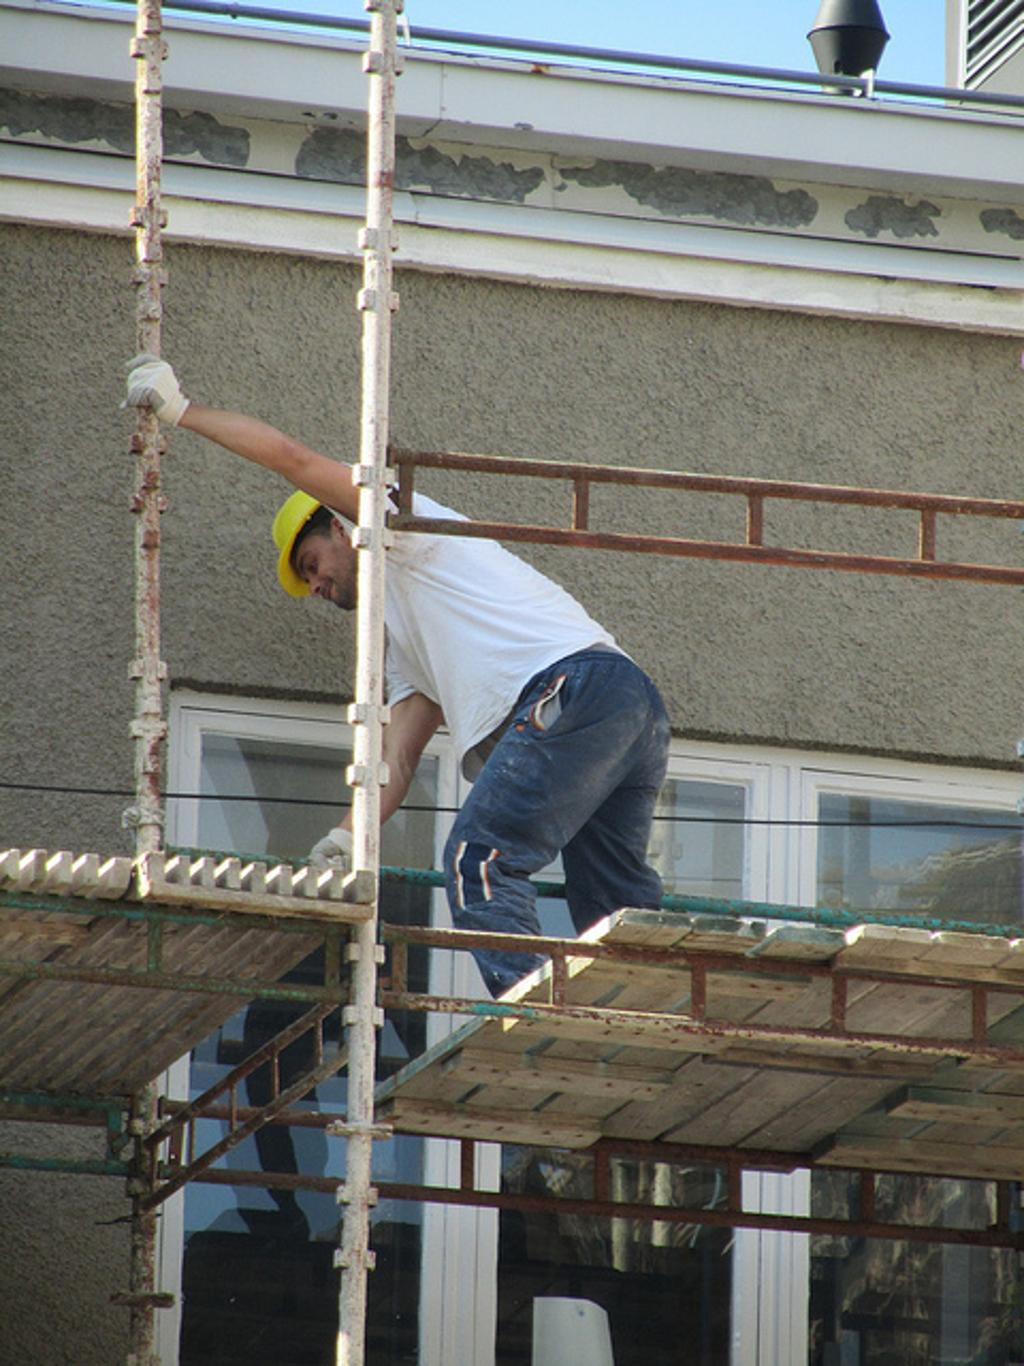face: (283, 499, 360, 608)
